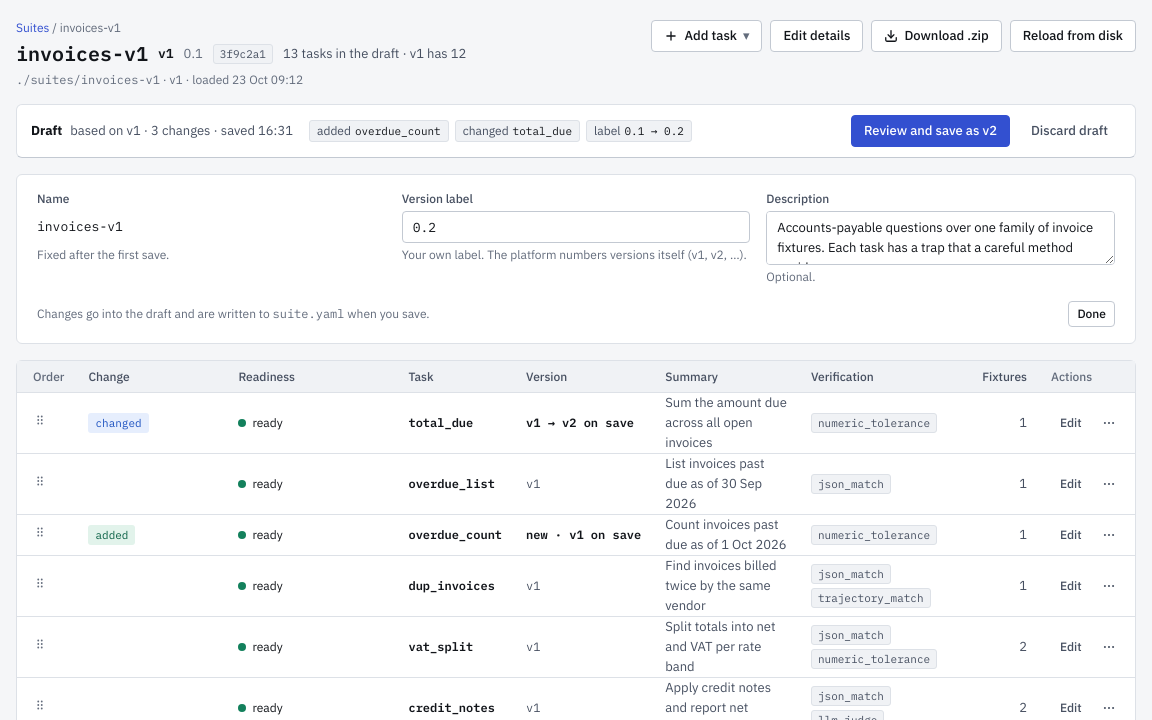
Test: SuiteDraftPage › opens Edit details, and an empty label blocks Review and save
Expected: the element with test id "draft-details" shows "Fixed after the first save.", x1=37 y1=247 x2=169 y2=262
Clear the field at x=576, y=227, box x1=402 y1=211 x2=750 y2=243
Wait 800 ms
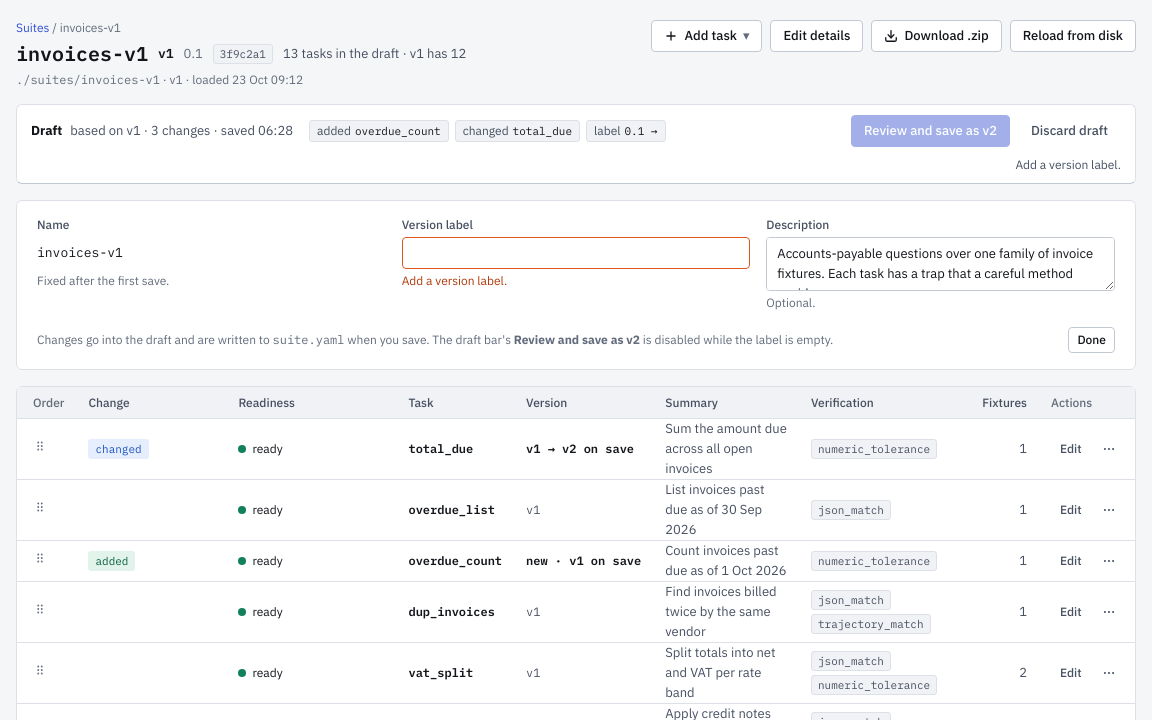
Now the element with test id "draft-details" shows "Add a version label.", box x1=402 y1=273 x2=507 y2=288
Now the text with test id "review-blocked" reads "Add a version label.", box x1=1015 y1=157 x2=1121 y2=172
